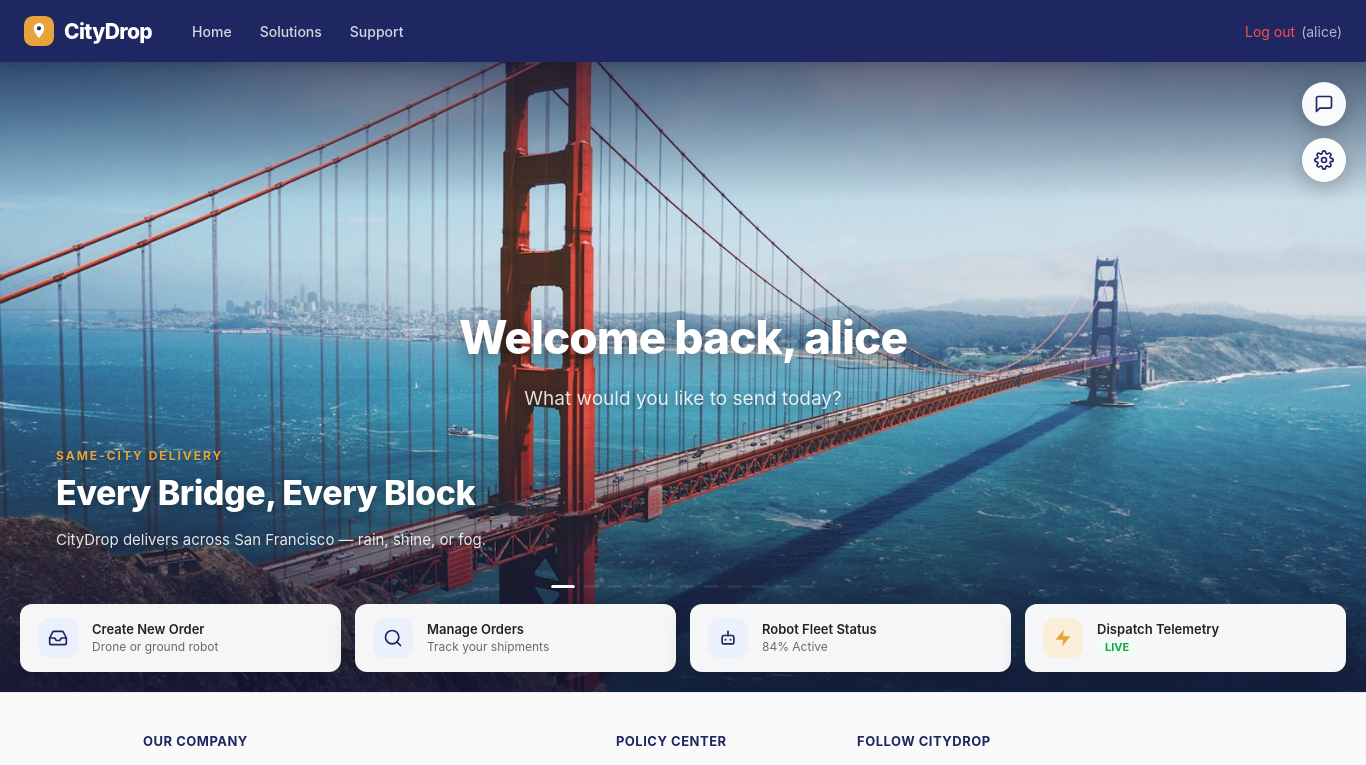
logs out from the nav: clears the session and returns to a signed-out state
Click the link "Log out" at (1270, 31), box [1245,22,1295,40]
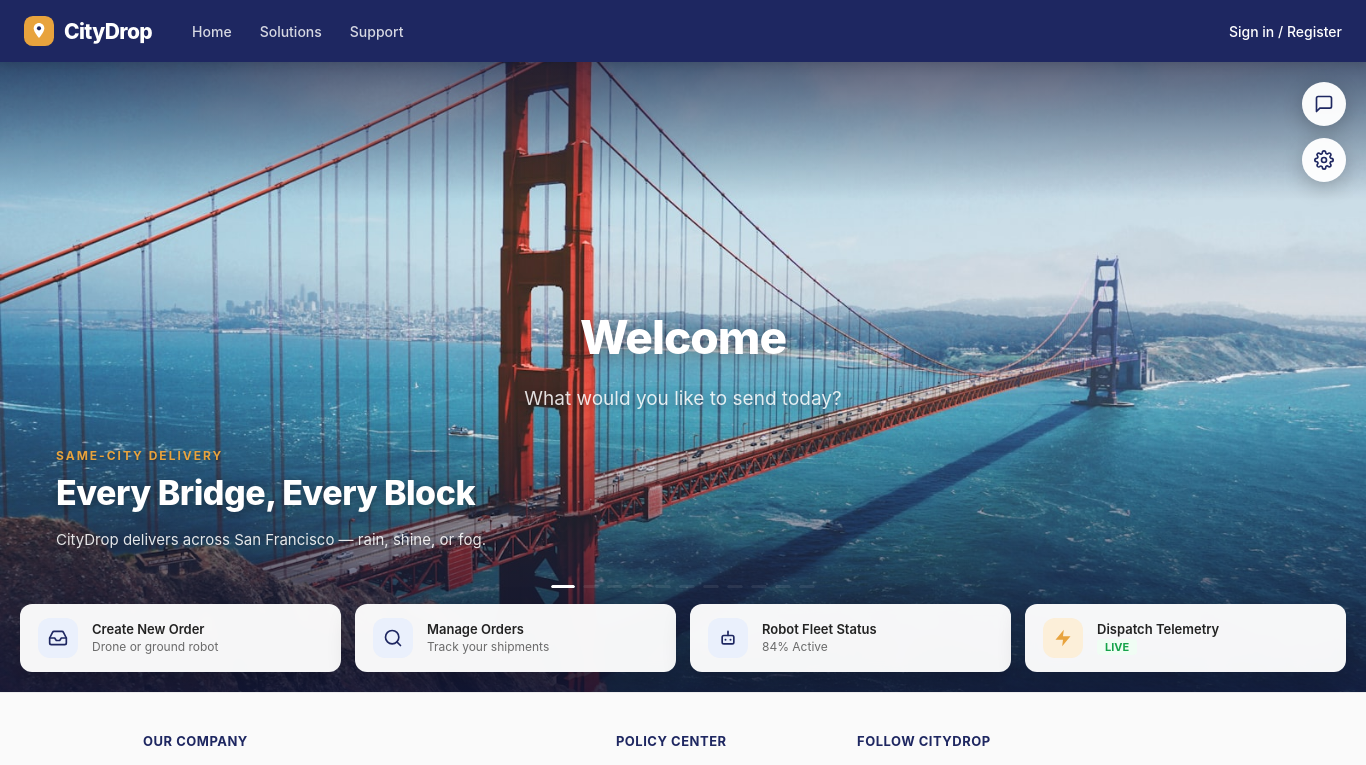
Check: the link "Sign in / Register" is shown, box [1229,22,1342,40]
